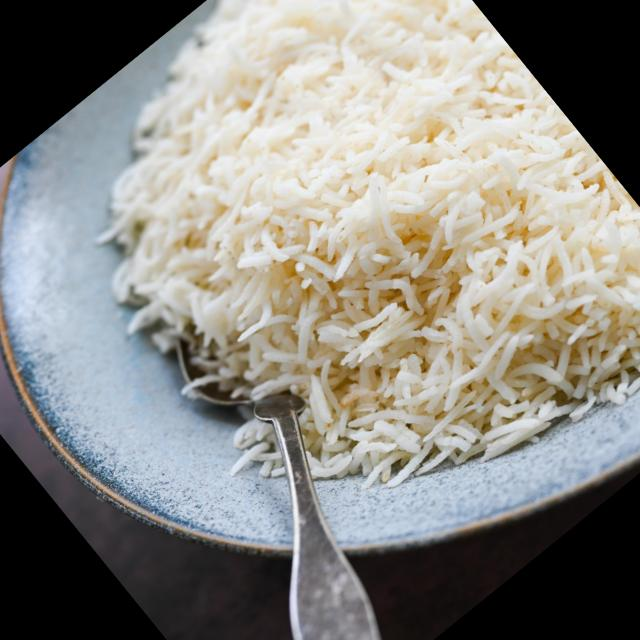rice: (106, 0, 640, 479)
